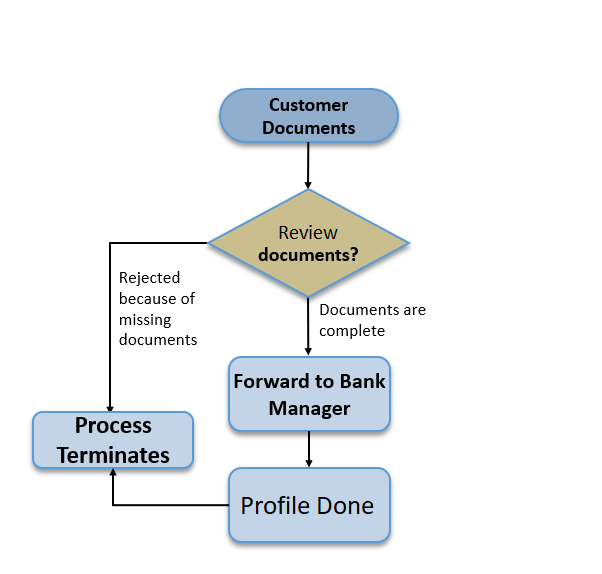arrow: (104, 238, 207, 408), (110, 465, 230, 508), (303, 298, 314, 355), (303, 141, 313, 188), (305, 430, 313, 466)
decision: (205, 188, 411, 297)
process: (225, 464, 393, 548), (225, 354, 394, 434), (30, 408, 198, 473)
terminator: (216, 86, 401, 147)
text: (232, 368, 386, 418), (119, 268, 200, 347), (56, 415, 171, 466), (260, 96, 358, 140), (317, 301, 426, 340), (257, 222, 358, 263), (240, 492, 375, 517)
